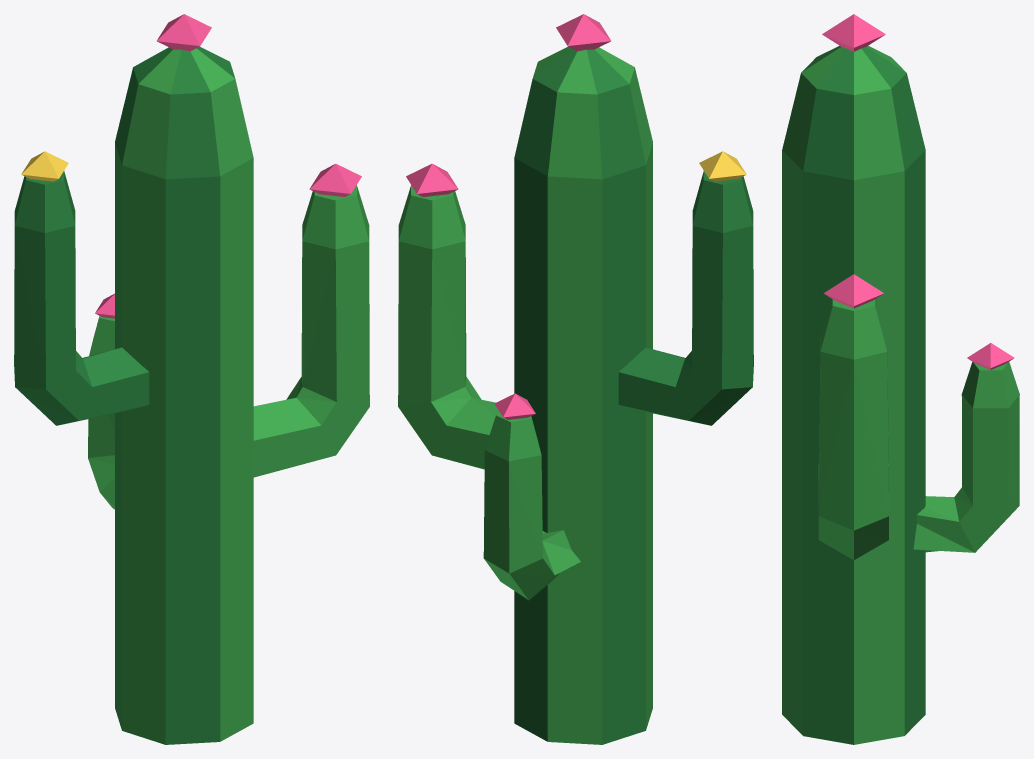
The model's file is cactus_big.glb.
3 views of the same model, side by side, from view 1: azimuth 30°, elevation 25°; view 2: azimuth 150°, elevation 25°; view 3: azimuth 270°, elevation 25° (orthographic).
Visible parts, largest first — view 1: cactus_big; view 2: cactus_big; view 3: cactus_big.
Boxes of the visible parts, bbox=[...] form: cactus_big: bbox=[14, 14, 369, 744]; cactus_big: bbox=[398, 14, 753, 744]; cactus_big: bbox=[782, 14, 1019, 744].
Size of the model in its own units: 0.423 by 0.8 by 0.2459.
